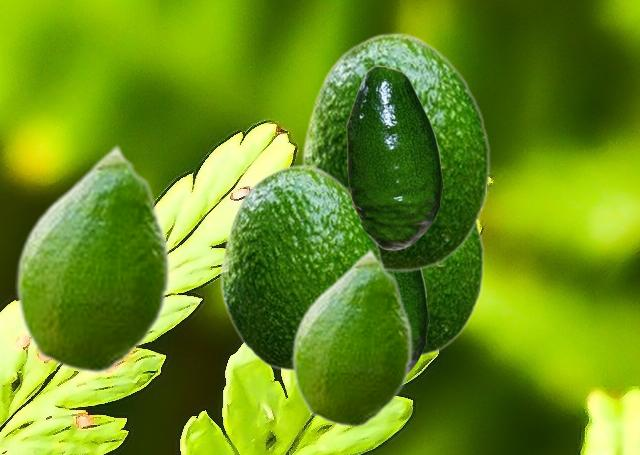avocado: (302, 32, 490, 271), (15, 143, 170, 373), (220, 164, 383, 371), (291, 247, 412, 427), (346, 65, 442, 249), (422, 221, 484, 357), (391, 271, 428, 372)
